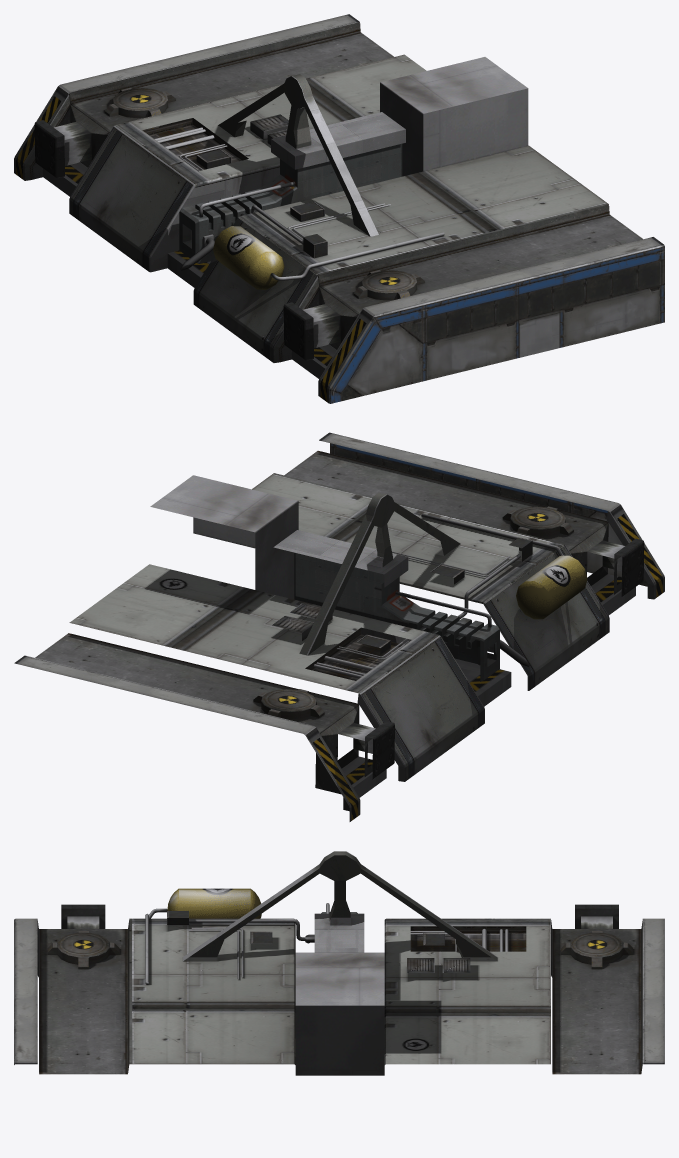
The model's file is ML2_Smasher_R.FBX.
3 renders of one model, top to bottom at view 1: azimuth 30°, elevation 25°; view 2: azimuth 150°, elevation 25°; view 3: azimuth 270°, elevation 25°, orthographic. The views are drawn at different scales.
Parts seen in each view (by area): view 1: ML2_Smasher_R; view 2: ML2_Smasher_R; view 3: ML2_Smasher_R.
Part boxes in pixels (x1,y1,x2,y2): ML2_Smasher_R: (14,14,664,403); ML2_Smasher_R: (14,432,664,821); ML2_Smasher_R: (14,851,664,1075).
Bounding box in the file's own units: 20.12 × 10.13 × 32.17.
1 material, 1 textured.
